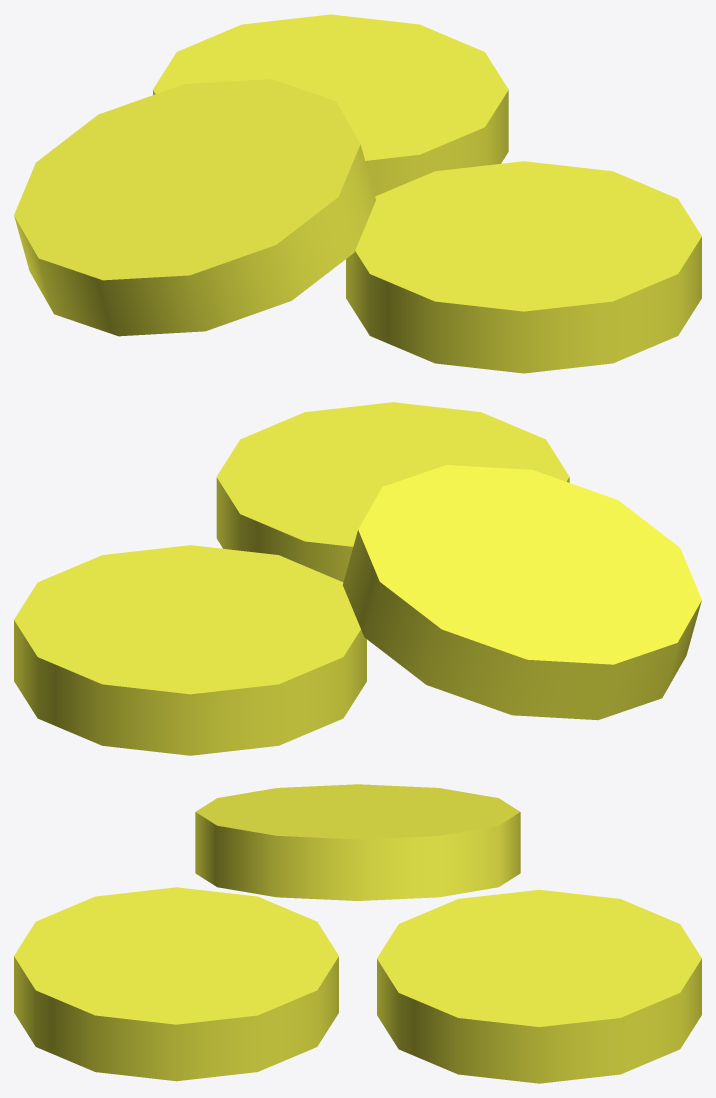
File: Coins 2.glb
The picture shows the model from 3 angles, top to bottom: view 1: azimuth 30°, elevation 25°; view 2: azimuth 150°, elevation 25°; view 3: azimuth 270°, elevation 25°; orthographic projection. The views are drawn at different scales.
Visible parts, largest first — view 1: coins_2; view 2: coins_2; view 3: coins_2.
Boxes of the visible parts, x1,y1,x2,y2 form: coins_2: (14, 14, 701, 373); coins_2: (14, 402, 701, 755); coins_2: (14, 784, 701, 1083).
Size of the model in its own units: 0.3541 by 0.0906 by 0.4232.
